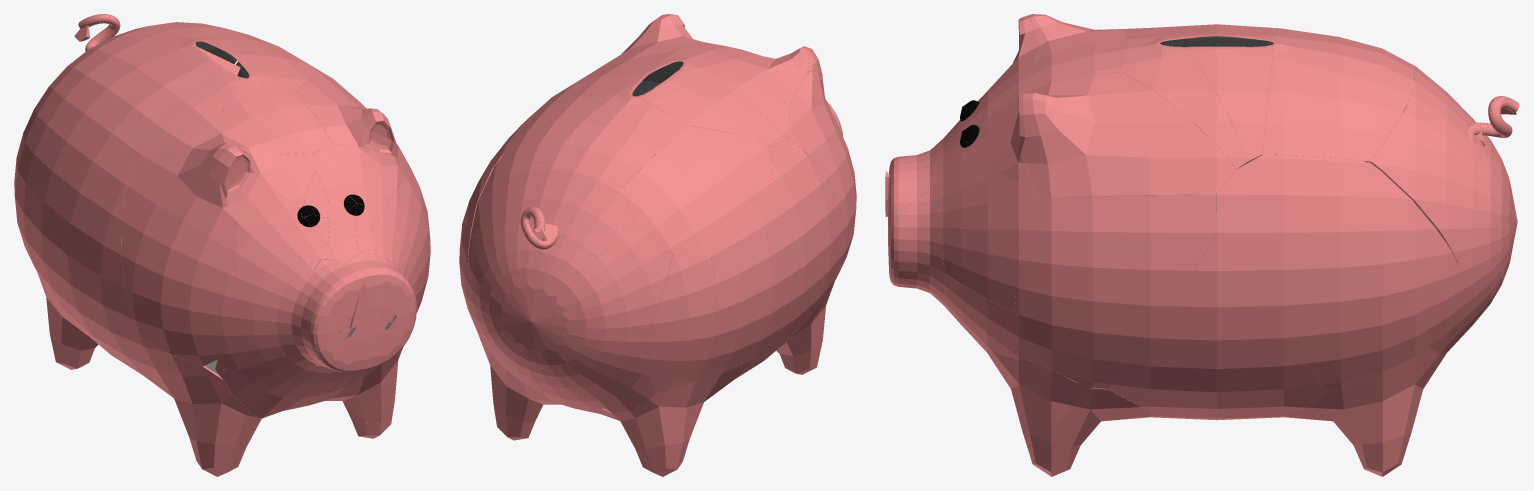
The model's file is PiggyMaterrialShatter.fbx.
3 renders of one model, left to right at view 1: azimuth 30°, elevation 25°; view 2: azimuth 150°, elevation 25°; view 3: azimuth 270°, elevation 25°, orthographic. The views are drawn at different scales.
Visible parts, largest first — view 1: Circle_cell.053, Circle_cell.073, Circle_cell.133, Circle_cell.120, Circle_cell.114, Circle_cell.182, Circle_cell.025, Circle_cell.144, Circle_cell.145, Circle_cell.155, Circle_cell.066, Circle_cell.087 (+27 smaller); view 2: Circle_cell.133, Circle_cell.073, Circle_cell.087, Circle_cell.044, Circle_cell.098, Circle_cell.007, Circle_cell.043, Circle_cell.147, Circle_cell.053, Circle_cell.025, Circle_cell.019, Circle_cell.135 (+19 smaller); view 3: Circle_cell.063, Circle_cell.121, Circle_cell.049, Circle_cell.145, Circle_cell.087, Circle_cell.149, Circle_cell.135, Circle_cell.035, Circle_cell.160, Circle_cell.050, Circle_cell.114, Circle_cell.011 (+15 smaller).
Boxes of the visible parts, <box> form: Circle_cell.053: <box>121,151,236,366</box>; Circle_cell.073: <box>41,141,142,353</box>; Circle_cell.133: <box>25,49,136,170</box>; Circle_cell.120: <box>110,339,261,476</box>; Circle_cell.114: <box>168,93,331,158</box>; Circle_cell.182: <box>215,271,315,369</box>; Circle_cell.025: <box>116,41,227,155</box>; Circle_cell.144: <box>215,363,372,418</box>; Circle_cell.145: <box>295,73,409,173</box>; Circle_cell.155: <box>207,148,304,233</box>; Circle_cell.066: <box>236,225,313,303</box>; Circle_cell.087: <box>89,22,286,69</box>; Circle_cell.133: <box>624,125,771,257</box>; Circle_cell.073: <box>755,138,844,358</box>; Circle_cell.087: <box>501,94,687,187</box>; Circle_cell.044: <box>640,255,717,393</box>; Circle_cell.098: <box>704,226,774,376</box>; Circle_cell.007: <box>589,222,672,350</box>; Circle_cell.043: <box>533,331,655,413</box>; Circle_cell.147: <box>611,356,765,473</box>; Circle_cell.053: <box>789,70,856,266</box>; Circle_cell.025: <box>634,70,786,147</box>; Circle_cell.019: <box>472,277,563,358</box>; Circle_cell.135: <box>470,157,537,236</box>; Circle_cell.063: <box>1216,154,1456,391</box>; Circle_cell.121: <box>1014,194,1216,388</box>; Circle_cell.049: <box>1108,233,1327,419</box>; Circle_cell.145: <box>1017,72,1236,199</box>; Circle_cell.087: <box>1262,28,1414,162</box>; Circle_cell.149: <box>1256,341,1444,476</box>; Circle_cell.135: <box>1370,109,1476,229</box>; Circle_cell.035: <box>1121,35,1246,169</box>; Circle_cell.160: <box>1188,44,1273,162</box>; Circle_cell.050: <box>931,165,1041,230</box>; Circle_cell.114: <box>1023,14,1125,92</box>; Circle_cell.011: <box>943,228,1019,312</box>.
Bounding box in the file's own units: 801 × 855 × 1252.
